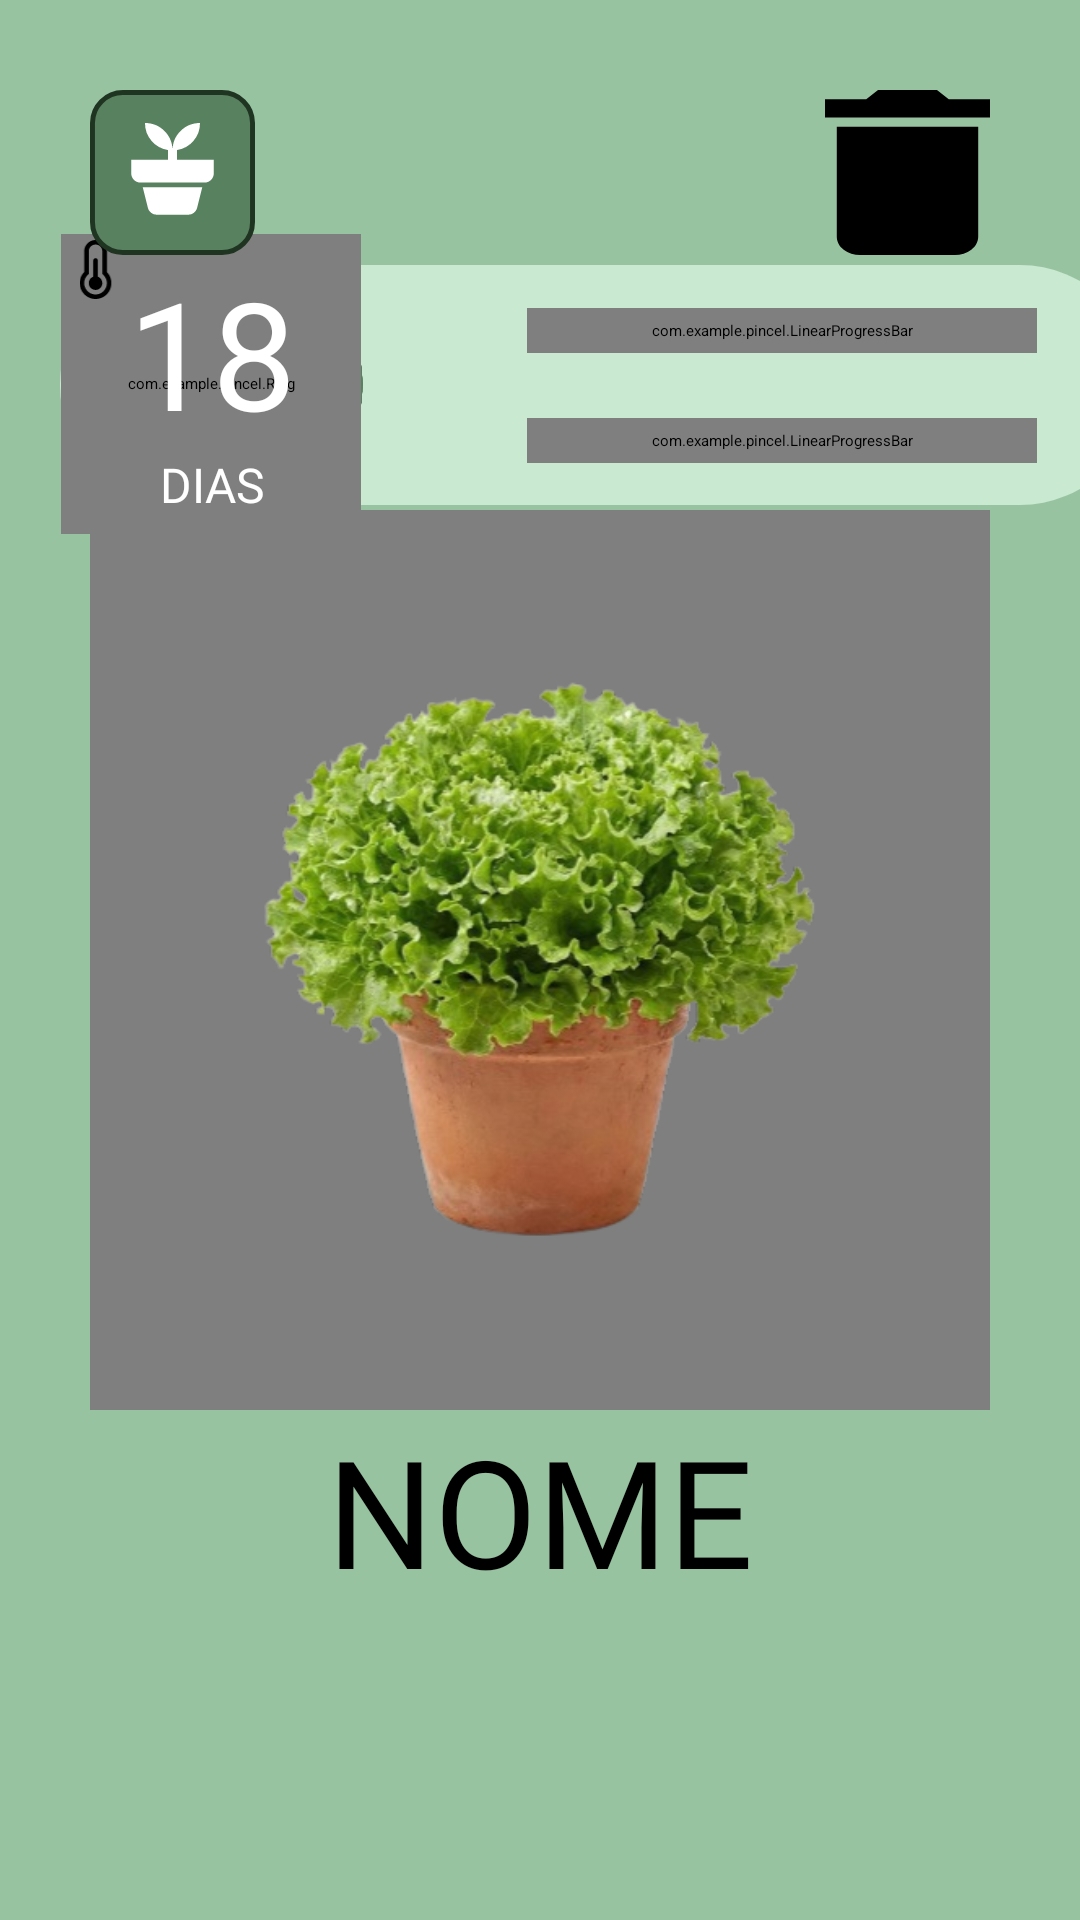

Where to tap for icons on this 1080 × 1920 app screen, as (x,y):
bin: (907,172)
